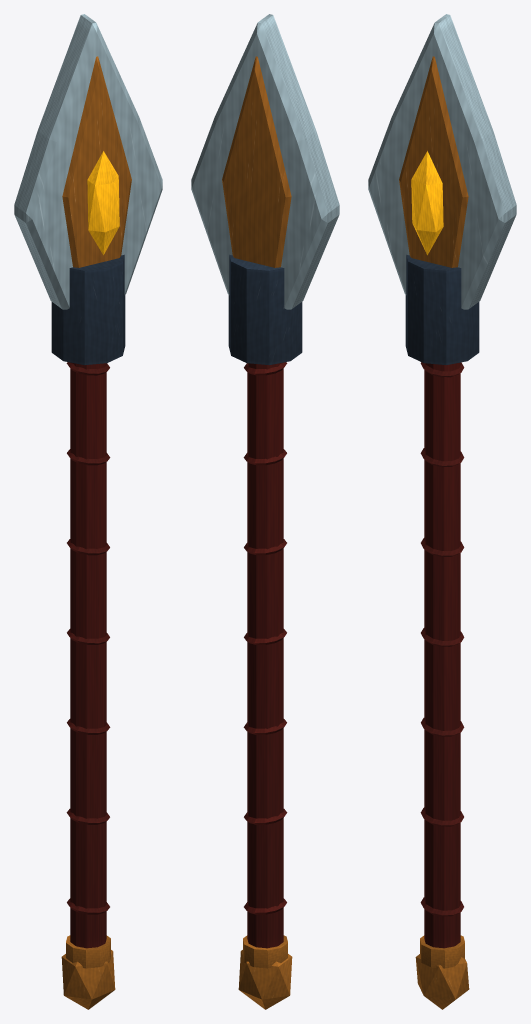
Rendered from spear-t2.glb.
The picture shows the model from 3 angles, left to right: view 1: azimuth 30°, elevation 25°; view 2: azimuth 150°, elevation 25°; view 3: azimuth 330°, elevation 25°; orthographic projection.
Parts seen in each view (by area): view 1: Leather grip, Spear cutting edge, Spear ridge, Spear socket, Storm core, Faceted pommel, Grip ferrule; view 2: Leather grip, Spear cutting edge, Spear ridge, Spear socket, Faceted pommel, Grip ferrule; view 3: Leather grip, Spear cutting edge, Spear ridge, Spear socket, Storm core, Faceted pommel, Grip ferrule.
Part boxes in pixels (x1,y1,x2,y2): Leather grip: (70,362,106,948); Spear cutting edge: (14,14,162,309); Spear ridge: (62,56,131,267); Spear socket: (51,254,125,365); Storm core: (87,151,119,255); Faceted pommel: (61,950,115,1009); Grip ferrule: (66,935,110,968); Leather grip: (247,362,283,948); Spear cutting edge: (191,14,339,309); Spear ridge: (222,56,291,267); Spear socket: (228,254,302,365); Faceted pommel: (238,950,292,1009); Grip ferrule: (243,935,287,968); Leather grip: (424,362,460,948); Spear cutting edge: (368,14,516,309); Spear ridge: (399,56,468,267); Spear socket: (405,254,479,365); Storm core: (411,151,443,255); Faceted pommel: (415,954,469,1009); Grip ferrule: (420,935,464,968).
Bounding box in the file's own units: 0.2312 × 1.6 × 0.117.
1 material, 1 textured.
